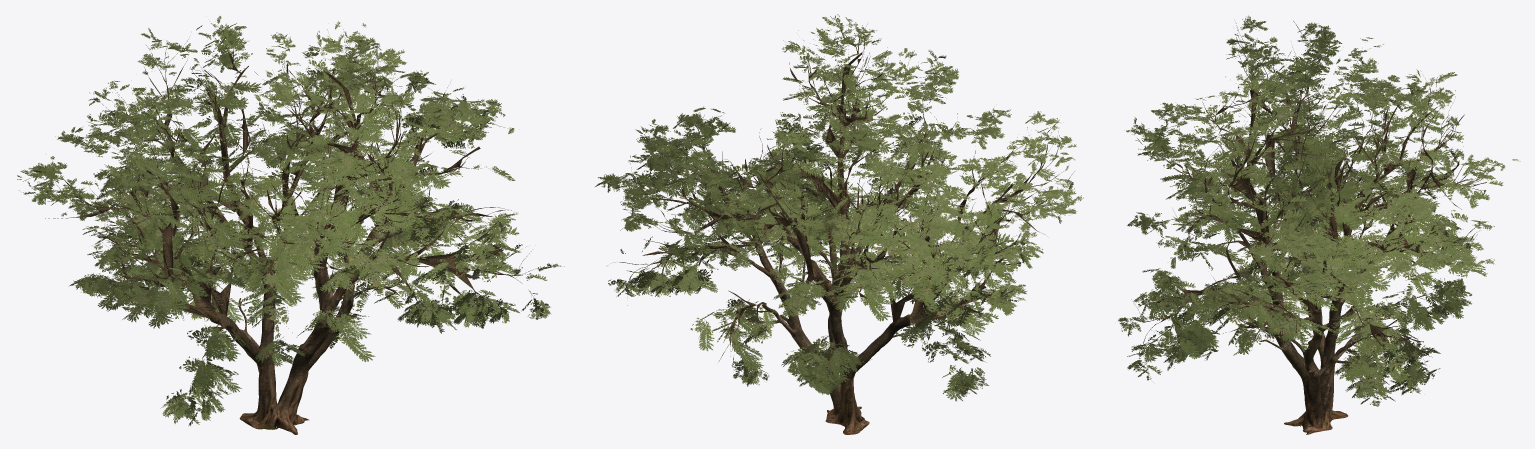
The model's file is tree_a.glb.
The picture shows the model from 3 angles, left to right: view 1: azimuth 30°, elevation 25°; view 2: azimuth 150°, elevation 25°; view 3: azimuth 270°, elevation 25°; orthographic projection. The views are drawn at different scales.
Visible parts, largest first — view 1: tree_a; view 2: tree_a; view 3: tree_a.
Part boxes in pixels (x1,y1,x2,y2): tree_a: (17, 16, 564, 434); tree_a: (595, 14, 1083, 434); tree_a: (1118, 15, 1520, 434).
Size of the model in its own units: 10.76 by 8.5 by 8.47.
Materials: 2 (2 with a texture image).
